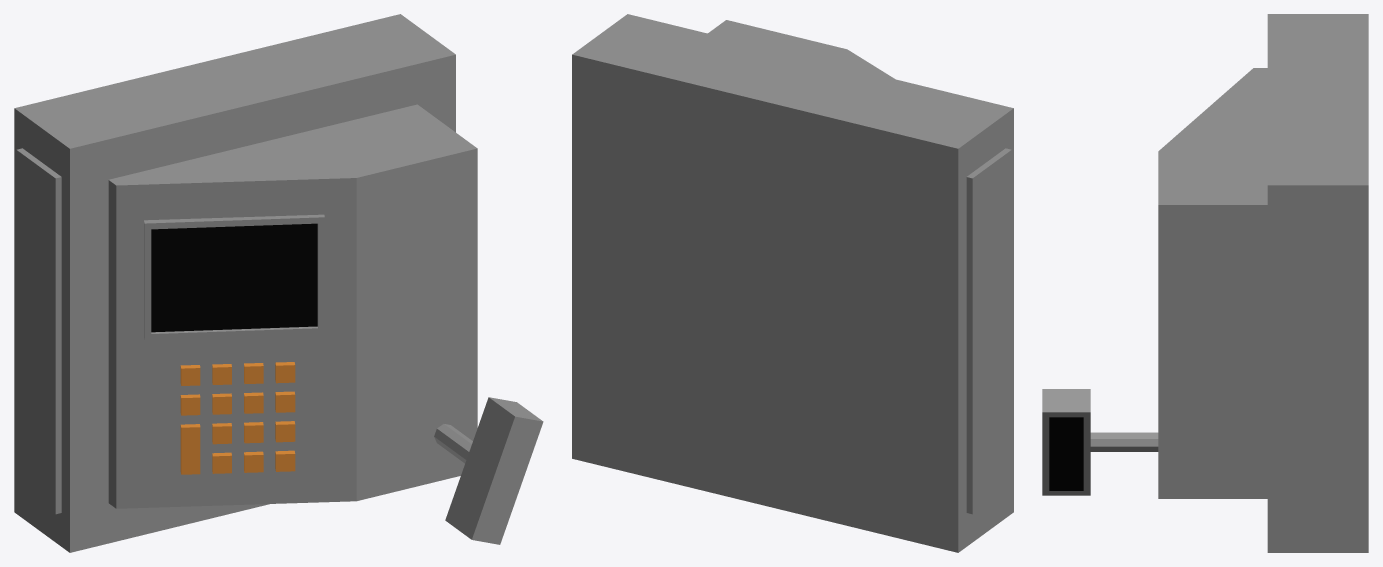
File: ChaletCashRegister.fbx
3 renders of one model, left to right at view 1: azimuth 30°, elevation 25°; view 2: azimuth 150°, elevation 25°; view 3: azimuth 270°, elevation 25°, orthographic. The views are drawn at different scales.
Parts seen in each view (by area): view 1: CashRegister; view 2: CashRegister; view 3: CashRegister.
Boxes of the visible parts, x1=… form: CashRegister: x1=14, y1=14, x2=543, y2=552; CashRegister: x1=572, y1=14, x2=1013, y2=552; CashRegister: x1=1042, y1=14, x2=1368, y2=552.
Size of the model in its own units: 1.02 by 1 by 0.8046.
